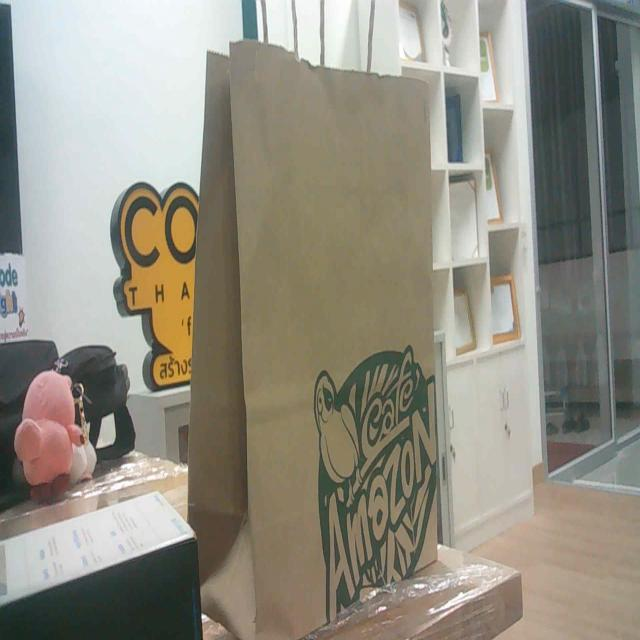bag: (176, 28, 465, 640)
